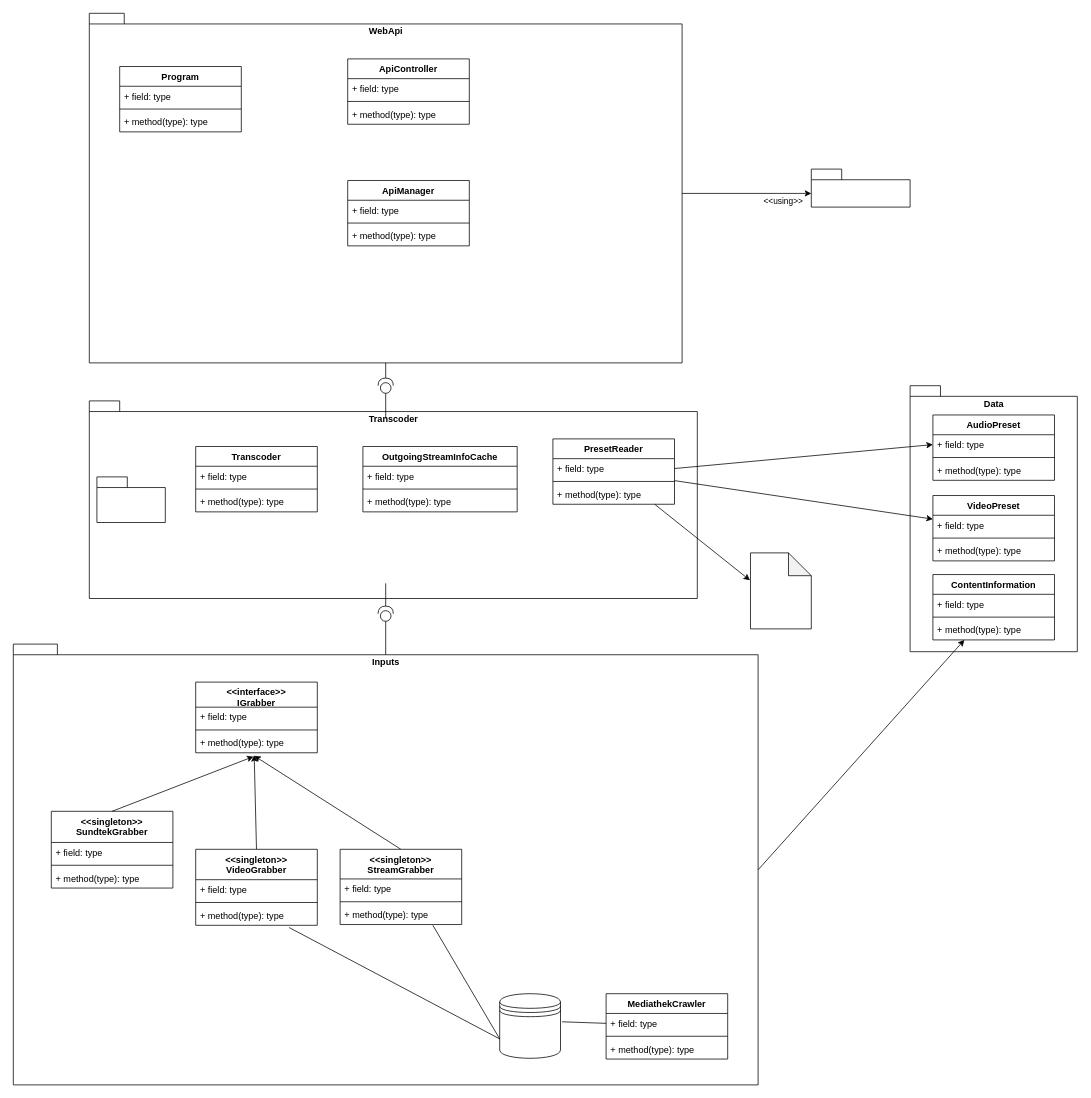
Some shapes in this 1091 by 1098 pixel diagram are drawn without their labels. The centre of each missing label's shape, as x and y in pixels:
"ASP.NET Web Api" belongs at pixel 860 187.
"FFmpeg" belongs at pixel 130 499.
"Mediatheken Content" belongs at pixel 529 1025.
"presets.config" belongs at pixel 780 590.
